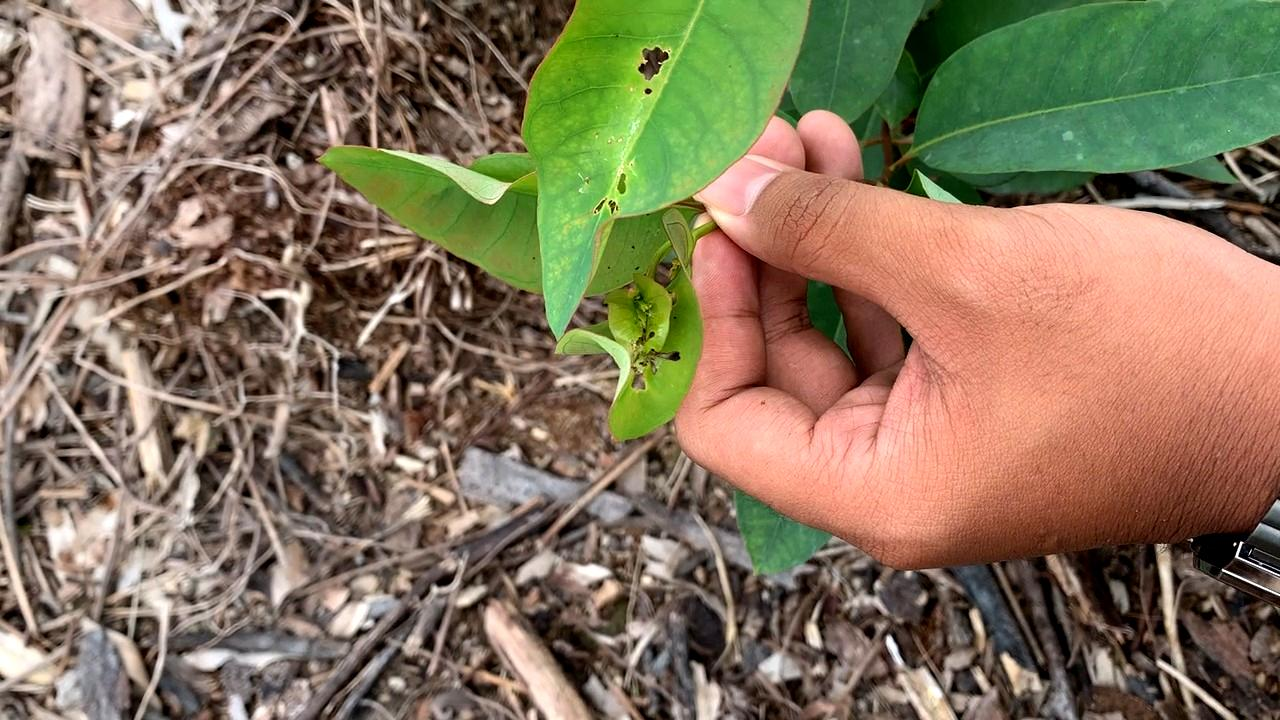Leaf Roller - Leaf: (604, 281, 675, 377)
